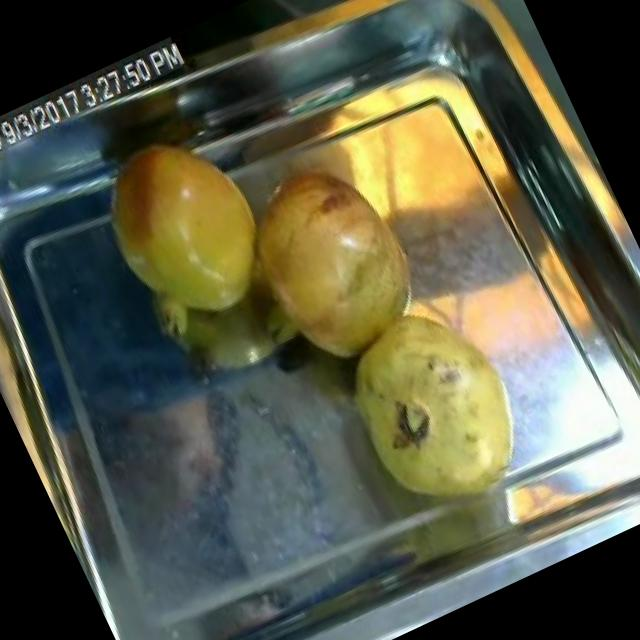fruit: (205, 129, 450, 397), (313, 274, 553, 538), (74, 106, 300, 354)
